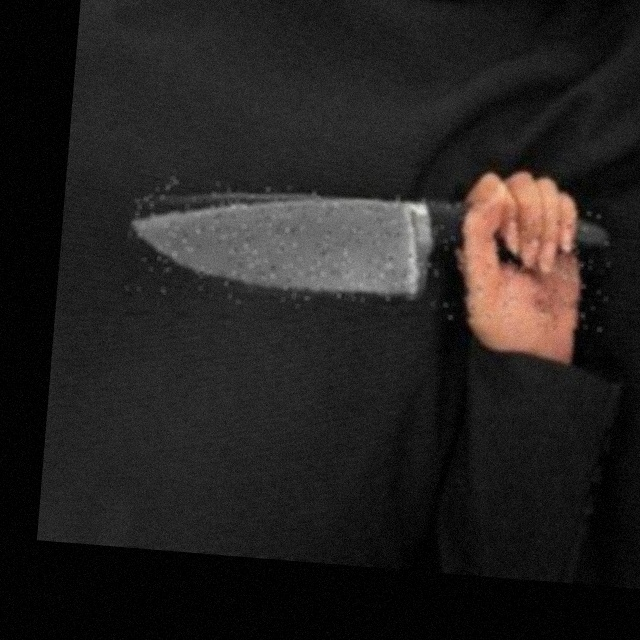Sharp-Object: (124, 175, 618, 333)
